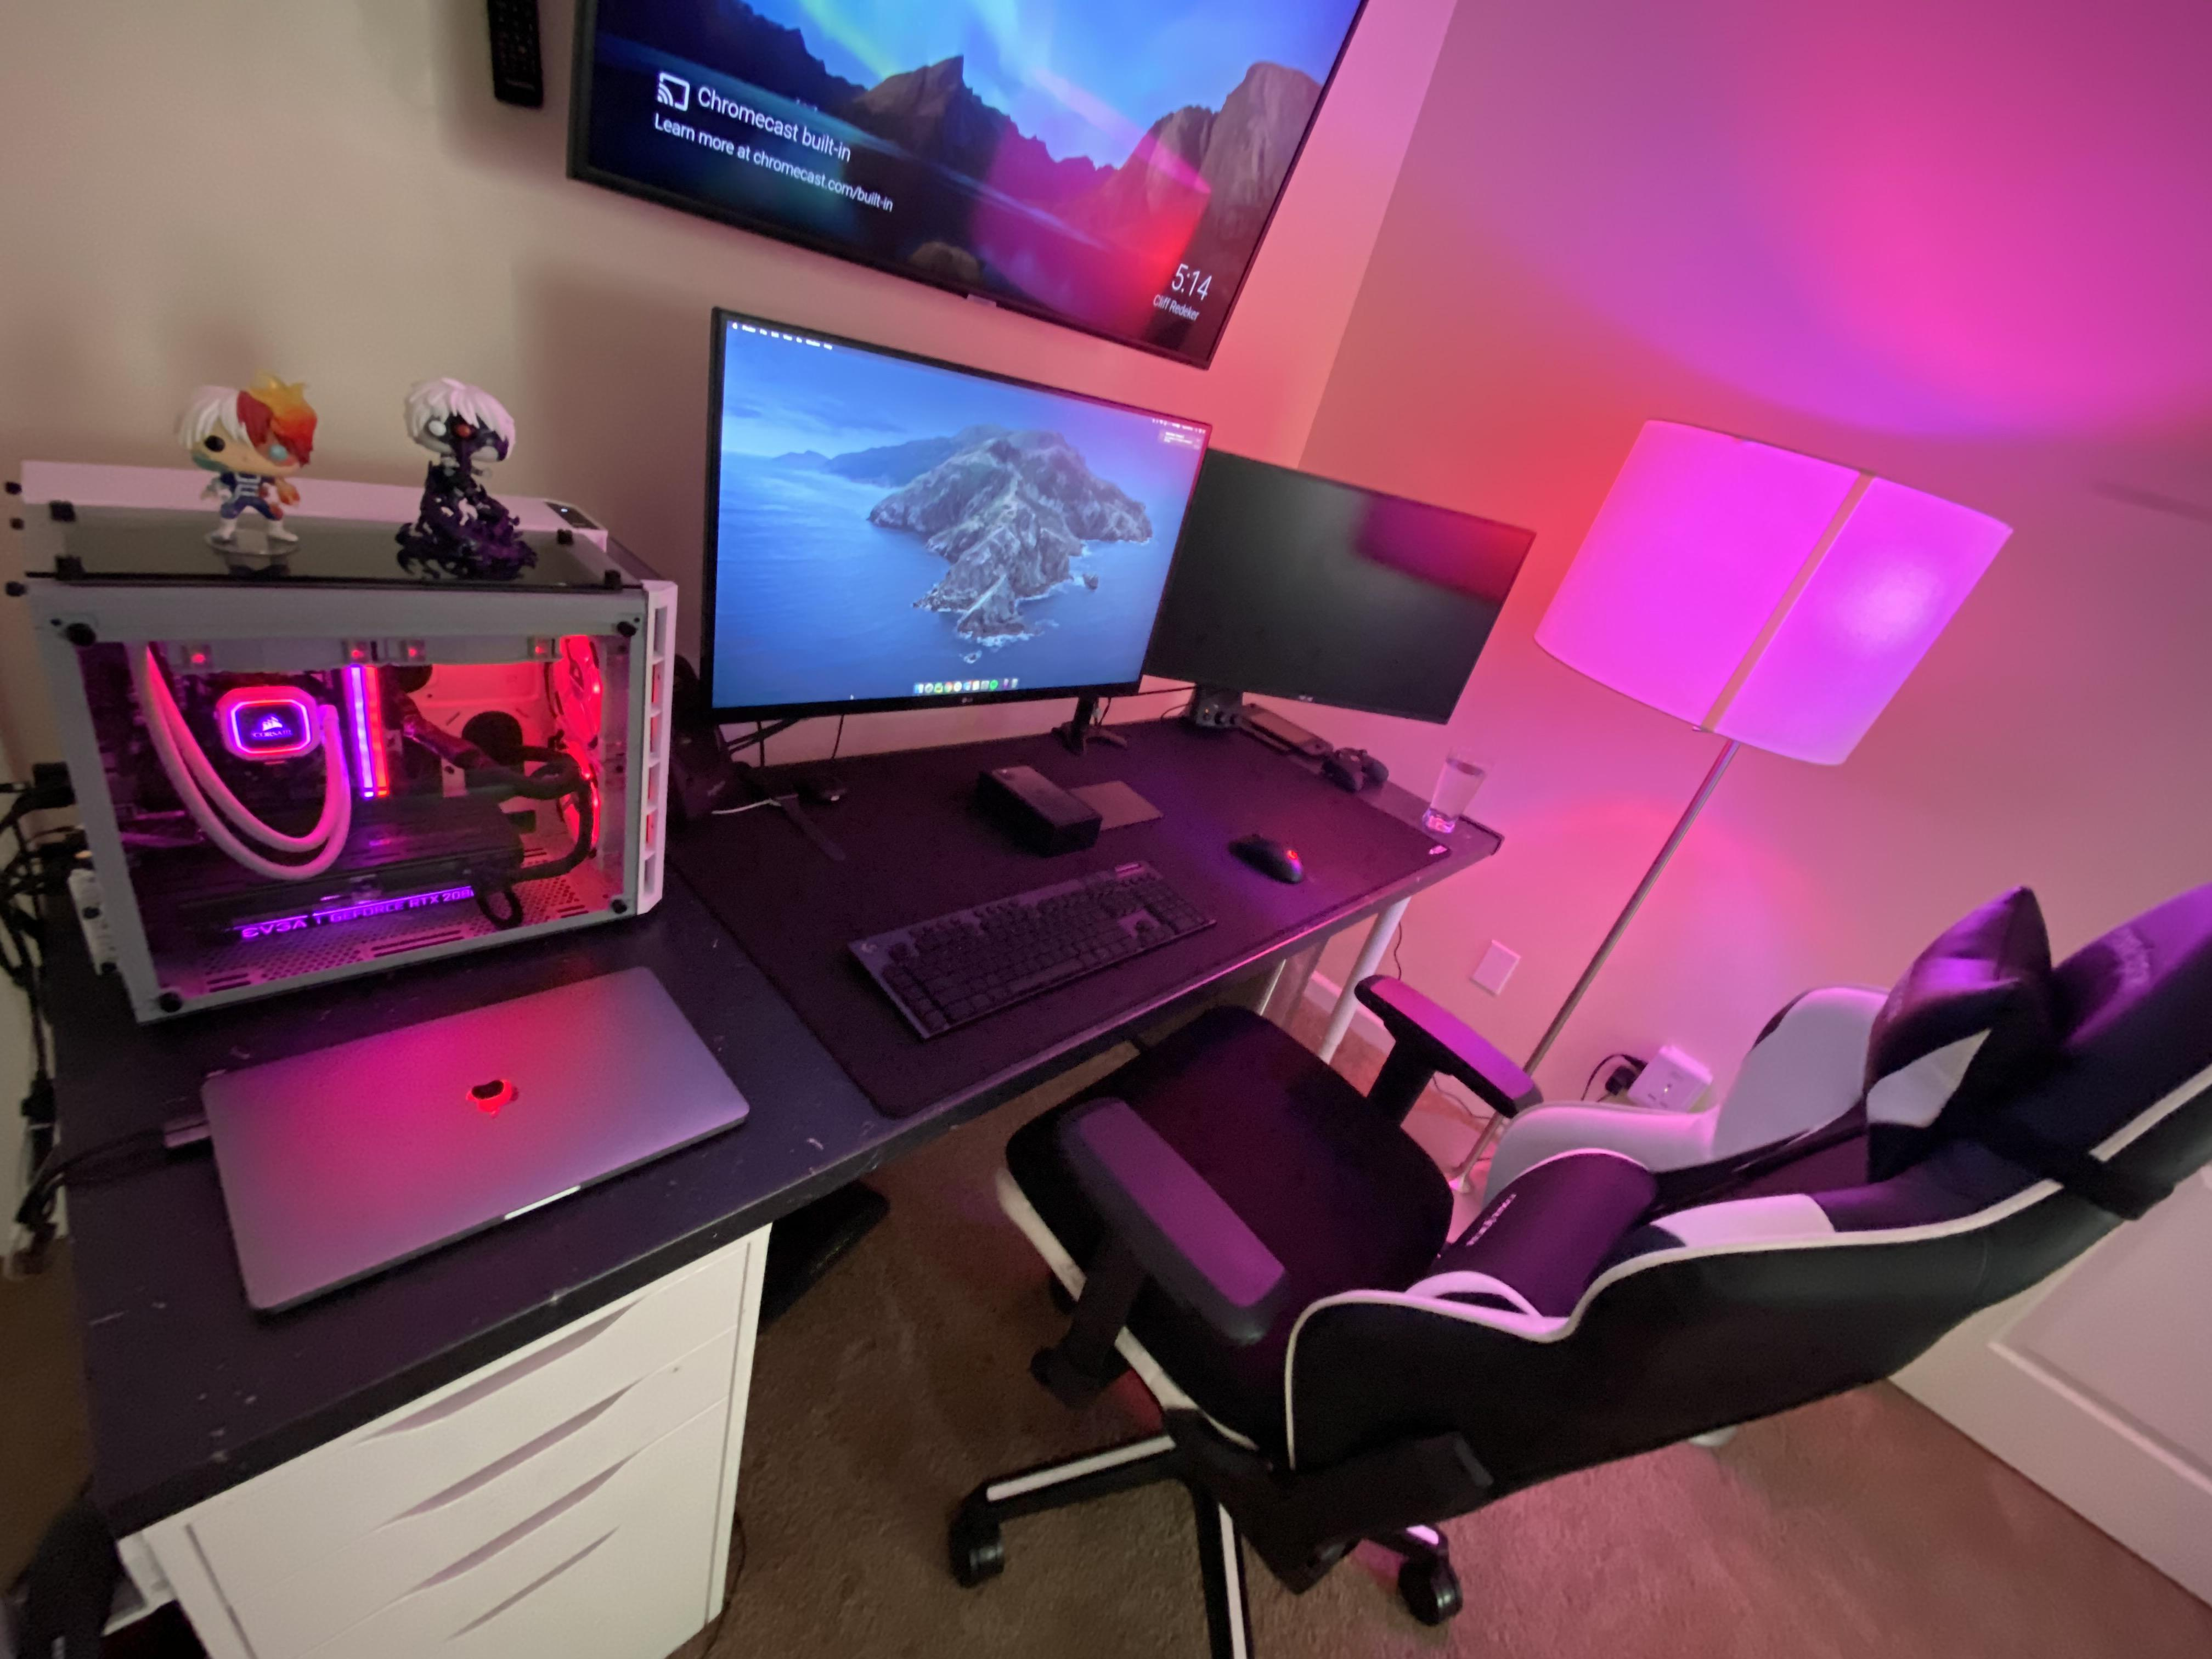Airpods (Apple): (794, 770, 848, 805)
Cellphone: (974, 756, 1103, 857)
Chair (Gaming): (923, 864, 2212, 1645)
Cup: (1420, 746, 1494, 835)
Decoration (Miniature): (390, 378, 536, 579), (178, 376, 324, 565)
Decoration (Watch): (732, 762, 846, 871)
Desk (Generic): (17, 694, 1514, 1659)
Desktop (Generic): (23, 465, 678, 1040)
Gaming Console: (1240, 701, 1334, 760)
Gaming Controller: (1322, 748, 1390, 791)
Keyboard (Generic): (845, 847, 1219, 1046)
Lamp (Floor): (1446, 416, 2012, 1209)
Laptop (OSX): (195, 962, 752, 1335)
Monitor (Landscape): (566, 0, 1379, 373), (707, 303, 1214, 728), (1139, 444, 1541, 725)
Mouse (Generic): (1221, 823, 1313, 896)
Storage Drawer: (89, 1222, 772, 1659)
